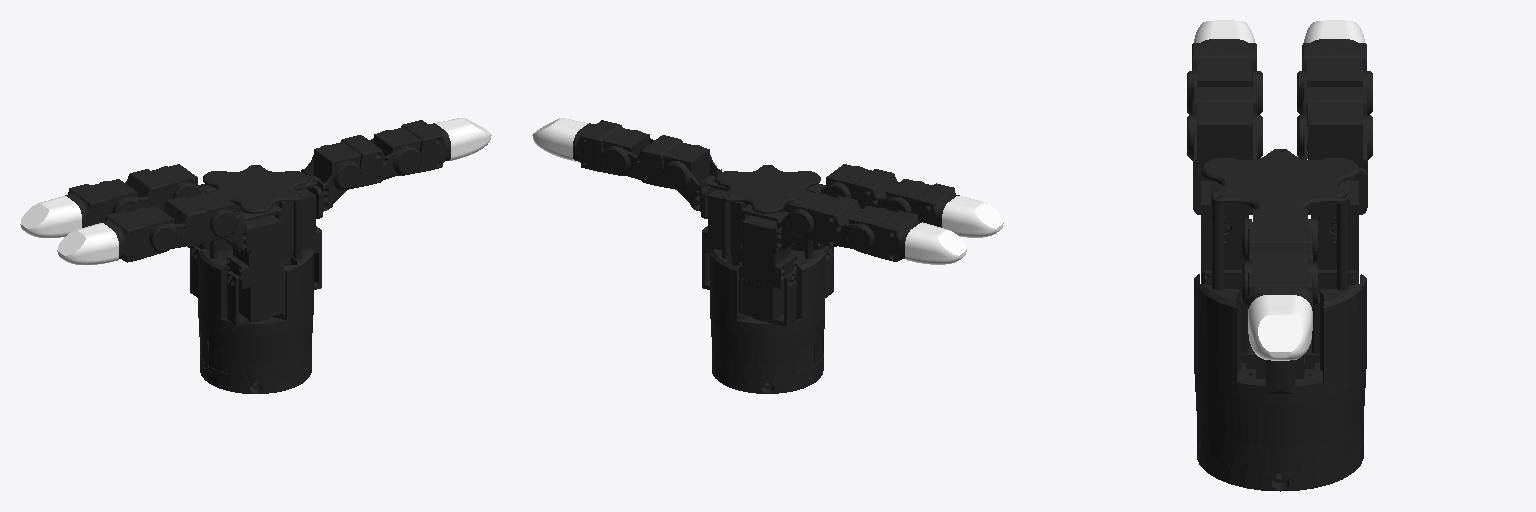
The robot description file, URDF, robot "delto_gripper_3f":
<?xml version="1.0" ?>

<robot name="delto_gripper_3f">

   <material name="silver">
      <color rgba="0.700 0.700 0.700 1.000"/>
   </material>

   <material name="black">
      <color rgba="0.196 0.196 0.196 1.0"/>
   </material>

   <material name="white">
      <color rgba="1.0 1.0 1.0 1.0"/>
   </material>

   <link name="delto_base_link">

      <inertial>
         <origin xyz="0.00045499721796859983 -2.051648304165415e-06 -0.05218562175888181" rpy="5.671320207730568e-06 0.0032948722942074404 -0.00044870150924543735"/>
         <mass value="0.370"/>
         <inertia ixx="0.0009935903471030175" iyy="0.000980251548061173" izz="0.0003178199035240808" ixy="0" ixz="0" iyz="0"/>
      </inertial>

      <visual name="delto_base_link">
         <origin xyz="0.00045499721796859983 -2.051648304165415e-06 -0.05218562175888181" rpy="5.671320207730568e-06 0.0032948722942074404 -0.00044870150924543735"/>
         <geometry>
            <mesh filename="package://delto_description/meshes/DG3F/delto_base_link.stl"/>
         </geometry>
         <material name="black"/>
      </visual>

      <collision>
         <origin xyz="0.00045499721796859983 -2.051648304165415e-06 -0.05218562175888181" rpy="5.671320207730568e-06 0.0032948722942074404 -0.00044870150924543735"/>
         <geometry>
            <mesh filename="package://delto_description/meshes/DG3F/delto_base_link.stl"/>
         </geometry>
      </collision>

   </link>


   <link name="F1_01">

      <inertial>
         <origin xyz="0.0003906 3.121e-08 -0.014" rpy= "-0.17662368646091148 -1.9303231388878572e-06 1.5707855116626381"/>
         <mass value="0.061"/>
         <inertia ixx="1.924000000025899e-05" iyy="1.709411627342488e-05" izz="5.9478837263161295e-06" ixy="0" ixz="0" iyz="0"/>
      </inertial>

      <visual name="F1_01">
         <origin xyz="0.0018977016221143523 -1.0017682763976983e-06 -0.022983822146236326" rpy="-0.1443920950720977 1.9855029389503898e-05 1.5709191233325221"/>
         <geometry>
            <mesh filename="package://delto_description/meshes/DG3F/link_01.stl"/>
         </geometry>
         <material name="black"/>
      </visual>
      
      <collision>
         <origin xyz="0.0018977016221143523 -1.0017682763976983e-06 -0.022983822146236326" rpy="-0.1443920950720977 1.9855029389503898e-05 1.5709191233325221"/>
         <geometry>
            <mesh filename="package://delto_description/meshes/DG3F/link_01.stl"/>
         </geometry>
      </collision> 

   </link>

   <link name="F1_02">

      <inertial>
         <origin xyz="0.01 3.444e-06 0.016" rpy="-0.0036890516412144943 0.31688564121750695 -0.0027736178951144786"/>
         <mass value="0.025"/>
         <inertia ixx="7.164797732610912e-06" iyy="6.31301833122199e-06" izz="3.274183936167101e-06" ixy="0" ixz="0" iyz="0"/>
      </inertial>

      <visual name="F1_02">
         <origin xyz="0.010322007813576017 0.000267674195662055 0.013590600703218703" rpy="-0.03118104794815292 0.3757385725887219 -0.024334342208719002"/>
         <geometry>
            <mesh filename="package://delto_description/meshes/DG3F/link_02.stl"/>
         </geometry>
         <material name="black"/>
      </visual>

      <collision>
         <origin xyz="0.010322007813576017 0.000267674195662055 0.013590600703218703" rpy="-0.03118104794815292 0.3757385725887219 -0.024334342208719002"/>
         <geometry>
            <mesh filename="package://delto_description/meshes/DG3F/link_02.stl"/>
         </geometry>
      </collision>
   </link>

   <link name="F1_03">

      <inertial>
         <origin xyz="0.014 -0.0004527 -3.953e-05" rpy="1.5651066808062148 -0.0008576993469346927 1.5562600280492769"/>
         <mass value="0.051"/>
         <inertia ixx="1.6912201686125405e-05" iyy="1.4940271596370447e-05" izz="6.505526717504149e-06" ixy="0" ixz="0" iyz="0"/>
      </inertial>

      <visual name="link_03">
         <origin xyz="0.019034639558839914 -0.0007611783816217545 0.00015734818842133856" rpy="1.5405533073968862 -0.0023628127138719535 1.5994547590929262"/>
         <geometry>
            <mesh filename="package://delto_description/meshes/DG3F/link_03.stl"/>
         </geometry>
         <material name="black"/>
      </visual>

      <collision>
         <origin xyz="0.019034639558839914 -0.0007611783816217545 0.00015734818842133856" rpy="1.5405533073968862 -0.0023628127138719535 1.5994547590929262"/>
         <geometry>
            <mesh filename="package://delto_description/meshes/DG3F/link_03.stl"/>
         </geometry>
      </collision>

   </link>

   <link name="F1_04">
      <inertial>
         <origin xyz="0.012 -0.0002269 -4.676e-05" rpy="1.5668480451228681 -0.0008686188531681349 1.5829731507939977"/>
         <mass value="0.058"/>
         <inertia ixx="1.0860820276783573e-05" iyy="9.902070548178027e-06" izz="5.330109175038405e-06" ixy="0" ixz="0" iyz="0"/>
      </inertial>

      <visual name="link_04">
         <origin xyz="0.011992289866897352 -0.0007726988011287212 -5.201111709052532e-06" rpy="1.5745317514920234 0.003601150001683928 1.6650413701206925"/>
         <geometry>
            <mesh filename="package://delto_description/meshes/DG3F/link_04.stl"/>
         </geometry>
         <material name="black"/>
      </visual>

      <collision>
         <origin xyz="0.011992289866897352 -0.0007726988011287212 -5.201111709052532e-06" rpy="1.5745317514920234 0.003601150001683928 1.6650413701206925"/>
         <geometry>
            <mesh filename="package://delto_description/meshes/DG3F/link_04.stl"/>
         </geometry>
      </collision>

   </link>

   <link name="F1_TIP">
      <inertial>
         <origin xyz="0.045 -0.000436 -7.22e-08" rpy="1.5708008179564292 -3.695361794919805e-05 1.5210948927815267"/>
         <mass value="0.013"/>
         <inertia ixx="1.5965708653714455e-06" iyy="1.2999999996018677e-06" izz="9.60129135026688e-07" ixy="0" ixz="0" iyz="0"/>
      </inertial>

      <visual name="link_tip_high">
         <origin xyz="0.044959448417087294 -0.0004226309811080281 2.3018946871860735e-07" rpy="1.5708745579876908 -1.019986385419891e-05 1.5204133624130758"/>
         <geometry>
            <mesh filename="package://delto_description/meshes/DG3F/link_tip_high.stl"/>
         </geometry>
         <material name="white"/>
      </visual>

      <collision>
         <origin xyz="0.044959448417087294 -0.0004226309811080281 2.3018946871860735e-07" rpy="1.5708745579876908 -1.019986385419891e-05 1.5204133624130758"/>
         <geometry>
            <mesh filename="package://delto_description/meshes/DG3F/link_tip_high.stl"/>
         </geometry>
      </collision>
   </link>

   <link name="F2_01">
      <inertial>
         <origin xyz="0.0003906 3.121e-08 -0.014" rpy="-0.17662368646091148 -1.9303231388878572e-06 1.5707855116626381"/>
         <mass value="0.061"/>
         <inertia ixx="1.924000000025899e-05" iyy="1.709411627342488e-05" izz="5.9478837263161295e-06" ixy="0" ixz="0" iyz="0"/>
      </inertial>

      <visual name="F2_01">
         <origin xyz="0.0018977016221143523 -1.0017682763976983e-06 -0.022983822146236326" rpy="-0.1443920950720977 1.9855029389503898e-05 1.5709191233325221"/>
         <geometry>
            <mesh filename="package://delto_description/meshes/DG3F/link_01.stl"/>
         </geometry>
         <material name="black"/>
      </visual>

      <collision>
         <origin xyz="0.0018977016221143523 -1.0017682763976983e-06 -0.022983822146236326" rpy="-0.1443920950720977 1.9855029389503898e-05 1.5709191233325221"/>
         <geometry>
            <mesh filename="package://delto_description/meshes/DG3F/link_01.stl"/>
         </geometry>
      </collision>

   </link>

   <link name="F2_02">
      <inertial>
         <origin xyz="0.01 3.444e-06 0.016" rpy="-0.0036890516412144943 0.31688564121750695 -0.0027736178951144786"/>
         <mass value="0.025"/>
         <inertia ixx="7.164797732610912e-06" iyy="6.31301833122199e-06" izz="3.274183936167101e-06" ixy="0" ixz="0" iyz="0"/>
      </inertial>

      <visual name="link_02">
         <origin xyz="0.010322007813576017 0.000267674195662055 0.013590600703218703" rpy="-0.03118104794815292 0.3757385725887219 -0.024334342208719002"/>
         <geometry>
            <mesh filename="package://delto_description/meshes/DG3F/link_02.stl"/>
         </geometry>
         <material name="black"/>
      </visual>

      <collision>
         <origin xyz="0.010322007813576017 0.000267674195662055 0.013590600703218703" rpy="-0.03118104794815292 0.3757385725887219 -0.024334342208719002"/>
         <geometry>
            <mesh filename="package://delto_description/meshes/DG3F/link_02.stl"/>
         </geometry>
      </collision>

   </link>

   <link name="F2_03">
   
      <inertial>
         <origin xyz="0.014 -0.0004527 -3.953e-05" rpy="1.5651066808062148 -0.0008576993469346927 1.5562600280492769"/>
         <mass value="0.051"/>
         <inertia ixx="1.6912201686125405e-05" iyy="1.4940271596370447e-05" izz="6.505526717504149e-06" ixy="0" ixz="0" iyz="0"/>
      </inertial>

      <visual name="link_03">
         <origin xyz="0.019034639558839914 -0.0007611783816217545 0.00015734818842133856" rpy="1.5405533073968862 -0.0023628127138719535 1.5994547590929262"/>
         <geometry>
            <mesh filename="package://delto_description/meshes/DG3F/link_03.stl"/>
         </geometry>
         <material name="black"/>
      </visual>


      <collision>
         <origin xyz="0.019034639558839914 -0.0007611783816217545 0.00015734818842133856" rpy="1.5405533073968862 -0.0023628127138719535 1.5994547590929262"/>
         <geometry>
            <mesh filename="package://delto_description/meshes/DG3F/link_03.stl"/>
         </geometry>
      </collision>

   </link>

   <link name="F2_04">
      <inertial>
         <origin xyz="0.012 -0.0002269 -4.676e-05" rpy="1.5668480451228681 -0.0008686188531681349 1.5829731507939977"/>
         <mass value="0.058"/>
         <inertia ixx="1.0860820276783573e-05" iyy="9.902070548178027e-06" izz="5.330109175038405e-06" ixy="0" ixz="0" iyz="0"/>
      </inertial>

      <visual name="link_04">
         <origin xyz="0.011992289866897352 -0.0007726988011287212 -5.201111709052532e-06" rpy="1.5745317514920234 0.003601150001683928 1.6650413701206925"/>
         <geometry>
            <mesh filename="package://delto_description/meshes/DG3F/link_04.stl"/>
         </geometry>
         <material name="black"/>
      </visual>

      <collision>
         <origin xyz="0.011992289866897352 -0.0007726988011287212 -5.201111709052532e-06" rpy="1.5745317514920234 0.003601150001683928 1.6650413701206925"/>
         <geometry>
            <mesh filename="package://delto_description/meshes/DG3F/link_04.stl"/>
         </geometry>
      </collision>
   </link>


   <link name="F2_TIP">
      <inertial>
         <origin xyz="0.045 -0.000436 -7.22e-08" rpy="1.5708008179564292 -3.695361794919805e-05 1.5210948927815267"/>
         <mass value="0.013"/>
         <inertia ixx="1.5965708653714455e-06" iyy="1.2999999996018677e-06" izz="9.60129135026688e-07" ixy="0" ixz="0" iyz="0"/>
      </inertial>

      <visual name="link_tip_high">
         <origin xyz="0.044959448417087294 -0.0004226309811080281 2.3018946871860735e-07" rpy="1.5708745579876908 -1.019986385419891e-05 1.5204133624130758"/>
         <geometry>
            <mesh filename="package://delto_description/meshes/DG3F/link_tip_high.stl"/>
         </geometry>
         <material name="white"/>
      </visual>

      <collision>
      <origin xyz="0.044959448417087294 -0.0004226309811080281 2.3018946871860735e-07" rpy="1.5708745579876908 -1.019986385419891e-05 1.5204133624130758"/>
         <geometry>
            <mesh filename="package://delto_description/meshes/DG3F/link_tip_high.stl"/>
         </geometry>
      </collision>
   </link>

   <link name="F3_01">
      <inertial>
         <origin xyz="0.0003906 3.121e-08 -0.014" rpy="-0.17662368646091148 -1.9303231388878572e-06 1.5707855116626381"/>
         <mass value="0.061"/>
         <inertia ixx="1.924000000025899e-05" iyy="1.709411627342488e-05" izz="5.9478837263161295e-06" ixy="0" ixz="0" iyz="0"/>
      </inertial>

      <visual name="link_01">
         <origin xyz="0.0018977016221143523 -1.0017682763976983e-06 -0.022983822146236326" rpy="-0.1443920950720977 1.9855029389503898e-05 1.5709191233325221"/>
         <geometry>
            <mesh filename="package://delto_description/meshes/DG3F/link_01.stl"/>
         </geometry>
         <material name="black"/>
      </visual>

      <collision>
      <origin xyz="0.0018977016221143523 -1.0017682763976983e-06 -0.022983822146236326" rpy="-0.1443920950720977 1.9855029389503898e-05 1.5709191233325221"/>
         <geometry>
            <mesh filename="package://delto_description/meshes/DG3F/link_01.stl"/>
         </geometry>
      </collision>
   </link>
   
   <link name="F3_02">
      <inertial>
         <origin xyz="0.01 3.444e-06 0.016" rpy="-0.0036890516412144943 0.31688564121750695 -0.0027736178951144786"/>
         <mass value="0.025"/>
         <inertia ixx="7.164797732610912e-06" iyy="6.31301833122199e-06" izz="3.274183936167101e-06" ixy="0" ixz="0" iyz="0"/>
      </inertial>
      <visual name="link_02">
         <origin xyz="0.010322007813576017 0.000267674195662055 0.013590600703218703" rpy="-0.03118104794815292 0.3757385725887219 -0.024334342208719002"/>
         <geometry>
            <mesh filename="package://delto_description/meshes/DG3F/link_02.stl"/>
         </geometry>
         <material name="black"/>
      </visual>

      <collision>
         <origin xyz="0.010322007813576017 0.000267674195662055 0.013590600703218703" rpy="-0.03118104794815292 0.3757385725887219 -0.024334342208719002"/>
         <geometry>
            <mesh filename="package://delto_description/meshes/DG3F/link_02.stl"/>
         </geometry>
      </collision>

   </link>

   <link name="F3_03">
      <inertial>
         <origin xyz="0.014 -0.0004527 -3.953e-05" rpy="1.5651066808062148 -0.0008576993469346927 1.5562600280492769"/>
         <mass value="0.051"/>
         <inertia ixx="1.6912201686125405e-05" iyy="1.4940271596370447e-05" izz="6.505526717504149e-06" ixy="0" ixz="0" iyz="0"/>
      </inertial>
      <visual name="link_03">
         <origin xyz="0.019034639558839914 -0.0007611783816217545 0.00015734818842133856" rpy="1.5405533073968862 -0.0023628127138719535 1.5994547590929262"/>
         <geometry>
            <mesh filename="package://delto_description/meshes/DG3F/link_03.stl"/>
         </geometry>
         <material name="black"/>
      </visual>

      <collision>
         <origin xyz="0.019034639558839914 -0.0007611783816217545 0.00015734818842133856" rpy="1.5405533073968862 -0.0023628127138719535 1.5994547590929262"/>
         <geometry>
            <mesh filename="package://delto_description/meshes/DG3F/link_03.stl"/>
         </geometry>
      </collision>

   </link>

   <link name="F3_04">
      <inertial>
         <origin xyz="0.012 -0.0002269 -4.676e-05" rpy="1.5668480451228681 -0.0008686188531681349 1.5829731507939977"/>
         <mass value="0.058"/>
         <inertia ixx="1.0860820276783573e-05" iyy="9.902070548178027e-06" izz="5.330109175038405e-06" ixy="0" ixz="0" iyz="0"/>
      </inertial>
      <visual name="link_04">
         <origin xyz="0.011992289866897352 -0.0007726988011287212 -5.201111709052532e-06" rpy="1.5745317514920234 0.003601150001683928 1.6650413701206925"/>
         <geometry>
            <mesh filename="package://delto_description/meshes/DG3F/link_04.stl"/>
         </geometry>
         <material name="black"/>
      </visual>

      <collision>
      <origin xyz="0.011992289866897352 -0.0007726988011287212 -5.201111709052532e-06" rpy="1.5745317514920234 0.003601150001683928 1.6650413701206925"/>
         <geometry>
            <mesh filename="package://delto_description/meshes/DG3F/link_04.stl"/>
         </geometry>
      </collision>

   </link>


   <link name="F3_TIP">
      <inertial>
         <origin xyz="0.045 -0.000436 -7.22e-08" rpy="1.5708008179564292 -3.695361794919805e-05 1.5210948927815267"/>
         <mass value="0.013"/>
         <inertia ixx="1.5965708653714455e-06" iyy="1.2999999996018677e-06" izz="9.60129135026688e-07" ixy="0" ixz="0" iyz="0"/>
      </inertial>
      <visual name="link_tip_high">
         <origin xyz="0.044959448417087294 -0.0004226309811080281 2.3018946871860735e-07" rpy="1.5708745579876908 -1.019986385419891e-05 1.5204133624130758"/>
         <geometry>
            <mesh filename="package://delto_description/meshes/DG3F/link_tip_high.stl"/>
         </geometry>
         <material name="white"/>
      </visual>

      <collision>
         <origin xyz="0.044959448417087294 -0.0004226309811080281 2.3018946871860735e-07" rpy="1.5708745579876908 -1.019986385419891e-05 1.5204133624130758"/>
         <geometry>
            <mesh filename="package://delto_description/meshes/DG3F/link_tip_high.stl"/>
         </geometry>
      </collision>

   </link>

   <!--Joint -->

   <joint name = "F1M1" type = "revolute">
      <origin xyz="0.0265 0.0 0.0" rpy="0 0 0"/>
      <parent link="delto_base_link"/>
      <child link="F1_01"/>
      <axis xyz="0.0 0.0 1.0"/>
      <limit effort="10.0" velocity="5.0" lower="-1.0472" upper="1.0472" />
      <dynamics damping="1.1" friction="1.1"/>
   </joint>

   <joint name = "F1M2" type = "revolute">
      <origin xyz="0.0 0.0 0.0" rpy="-3.1415926207728213 -1.570796290294655 0.0"/>
      <parent link="F1_01"/>
      <child link="F1_02"/>
      <axis xyz="0.0 0.0 1.0"/>
      <limit effort="10.0" velocity="5.0" lower="-1.76278" upper="1.76278" />
      <dynamics damping="1.1" friction="1.1"/>
   </joint>

   <joint name = "F1M3" type = "revolute">
      <origin xyz="0.02022 0.0 0.03136" rpy="-1.5707963295583207 -1.5707963267948966 0.0"/>
      <parent link="F1_02"/>
      <child link="F1_03"/>
      <axis xyz="0.0 0.0 1.0"/>
      <limit effort="10.0" velocity="5.0" lower="-0.15708" upper="2.53073" />
      <dynamics damping="1.1" friction="1.1"/>
   </joint>

   <joint name = "F1M4" type = "revolute">
      <origin xyz="0.0434 0.0 0.0" rpy="0 0 0"/>
      <parent link="F1_03"/>
      <child link="F1_04"/>
      <axis xyz="0.0 0.0 1.0"/>
      <limit effort="10.0" velocity="5.0" lower="-0.226893" upper="2.02458"/>
      <dynamics damping="1.1" friction="1.1"/>
   </joint>

   <joint name = "TIP1" type="fixed">
      <origin xyz="0.0 0.0 0.0" rpy="0 0 0"/>
      <parent link="F1_04"/>
      <child link="F1_TIP"/>
   </joint>

   <!-- FINGER 2-->

   <joint name = "F2M1" type = "revolute">
      <origin xyz="-0.01334 0.023 0.0" rpy="0 0 -3.14"/>
      <parent link="delto_base_link"/>
      <child link="F2_01"/>
      <axis xyz="0.0 0.0 1.0"/>
      <limit effort="10.0" velocity="5.0" lower="-1.91986" upper="0.139626" />
      <dynamics damping="1.1" friction="1.1"/>
   </joint>

   <joint name = "F2M2" type = "revolute">
      <origin xyz="0.0 0.0 0.0" rpy="-3.14 -1.57 0"/>
      <parent link="F2_01"/>
      <child link="F2_02"/>
      <axis xyz="0.0 0.0 1.0"/>
      <limit effort="10.0" velocity="5.0" lower="-1.76278" upper="1.76278" />
      <dynamics damping="1.1" friction="1.1"/>
   </joint>

   <joint name = "F2M3" type = "revolute">
      <origin xyz="0.02022 0.0 0.03136" rpy="-1.57 -1.57 0"/>
      <parent link="F2_02"/>
      <child link="F2_03"/>
      <axis xyz="0.0 0.0 1.0"/>
      <limit effort="10.0" velocity="5.0" lower="-0.15708" upper="2.53073" />
      <dynamics damping="1.1" friction="1.1"/>
   </joint>

   <joint name = "F2M4" type = "revolute">
      <origin xyz="0.0434 0.0 0.0" rpy="0 0 0"/>
      <parent link="F2_03"/>
      <child link="F2_04"/>
      <axis xyz="0.0434 0.0 1.0"/>
      <limit effort="10.0" velocity="5.0" lower="-0.226893" upper="2.02458" />
      <dynamics damping="1.1" friction="1.1"/>
   </joint>

   <joint name = "TIP2" type="fixed">
      <origin xyz="0.0 0.0 0.0" rpy="0 0 0"/>
      <parent link="F2_04"/>
      <child link="F2_TIP"/>
   </joint>

   <!-- FINGER 3-->   

   <joint name = "F3M1" type = "revolute">
      <origin xyz="-0.01334 -0.023 0.0" rpy="0 0 -3.14"/>
      <parent link="delto_base_link"/>
      <child link="F3_01"/>
      <axis xyz=".0 0.0 1.0"/>
      <limit effort="10.0" velocity="5.0" lower="-0.0872665" upper="2.00713" />
      <dynamics damping="1.1" friction="1.1"/>
   </joint>

   <joint name = "F3M2" type = "revolute">
      <origin xyz="0.0 0.0 0.0" rpy="-3.14 -1.57 0"/>
      <parent link="F3_01"/>
      <child link="F3_02"/>
      <axis xyz="0.0 0.0 1.0"/>
      <limit effort="10.0" velocity="5.0" lower="-1.76278" upper="1.76278" />
      <dynamics damping="1.1" friction="1.1"/>
   </joint>

   <joint name = "F3M3" type = "revolute">
      <origin xyz="0.02022 0.0 0.03136" rpy="-1.57 -1.57 0"/>
      <parent link="F3_02"/>
      <child link="F3_03"/>
      <axis xyz="0.0 0.0 1.0"/>
      <limit effort="10.0" velocity="5.0" lower="-0.15708" upper="2.53073" />
      <dynamics damping="1.1" friction="1.1"/>
   </joint>

   <joint name = "F3M4" type = "revolute">
      <origin xyz="0.0434 0.0 0.0" rpy="0 0 0"/>
      <parent link="F3_03"/>
      <child link="F3_04"/>
      <axis xyz="0.0 0.0 1.0"/>
      <limit effort="10.0" velocity="5.0" lower="-0.226893" upper="2.02458" />
      <dynamics damping="1.1" friction="1.1"/>
   </joint>

   <joint name = "TIP3" type="fixed">
      <origin xyz="0.0 0.0 0.0" rpy="0 0 0"/>
      <parent link="F3_04"/>
      <child link="F3_TIP"/>
   </joint>

</robot>

--- Facts derived from the render (not from the file) ---
Views: 3 orthographic renders of the robot side by side, from view 1: azimuth 30°, elevation 25°; view 2: azimuth 150°, elevation 25°; view 3: azimuth 270°, elevation 25°.
Model delto_gripper_3f with 16 links and 15 joints (12 revolute, 3 fixed), rooted at delto_base_link, posed all joints at 0.
Links seen in each view (by area): view 1: delto_base_link, F3_01, F1_03, F3_03, F1_04, F3_04, F2_03, F3_TIP, F2_TIP, F1_01, F2_04, F1_02 (+3 smaller); view 2: delto_base_link, F2_01, F1_03, F2_03, F1_04, F2_04, F3_03, F2_TIP, F3_TIP, F1_01, F3_04, F1_02 (+3 smaller); view 3: delto_base_link, F3_03, F2_03, F1_TIP, F1_03, F2_04, F3_04, F1_04, F2_02, F3_02, F3_01, F2_01 (+4 smaller).
Link boxes in pixels (x1,y1,x2,y2): delto_base_link: (198,165,313,393); F3_01: (227,215,283,326); F1_03: (314,130,420,188); F3_03: (137,191,234,251); F1_04: (374,120,450,175); F3_04: (102,206,174,262); F2_03: (100,164,197,212); F3_TIP: (57,223,118,264); F2_TIP: (20,196,81,237); F1_01: (279,189,321,289); F2_04: (65,179,137,227); F1_02: (275,145,360,218); delto_base_link: (710,165,824,393); F2_01: (739,215,796,326); F1_03: (603,130,709,188); F2_03: (789,191,888,251); F1_04: (573,120,649,175); F2_04: (849,206,921,261); F3_03: (826,164,923,212); F2_TIP: (905,222,966,264); F3_TIP: (942,196,1003,237); F1_01: (702,189,744,289); F3_04: (886,179,959,227); F1_02: (663,145,747,218); delto_base_link: (1194,149,1366,491); F3_03: (1187,71,1262,159); F2_03: (1297,71,1372,159); F1_TIP: (1248,295,1312,360); F1_03: (1242,209,1317,305); F2_04: (1302,39,1366,86); F3_04: (1192,39,1256,86); F1_04: (1248,253,1312,332); F2_02: (1297,115,1372,248); F3_02: (1187,115,1262,248); F3_01: (1201,181,1248,292); F2_01: (1311,181,1358,292).
Size in the robot's own frame: 0.3204 by 0.0779 by 0.1379 metres.
16 mesh visuals loaded from 6 distinct referenced files (6 binary STL).